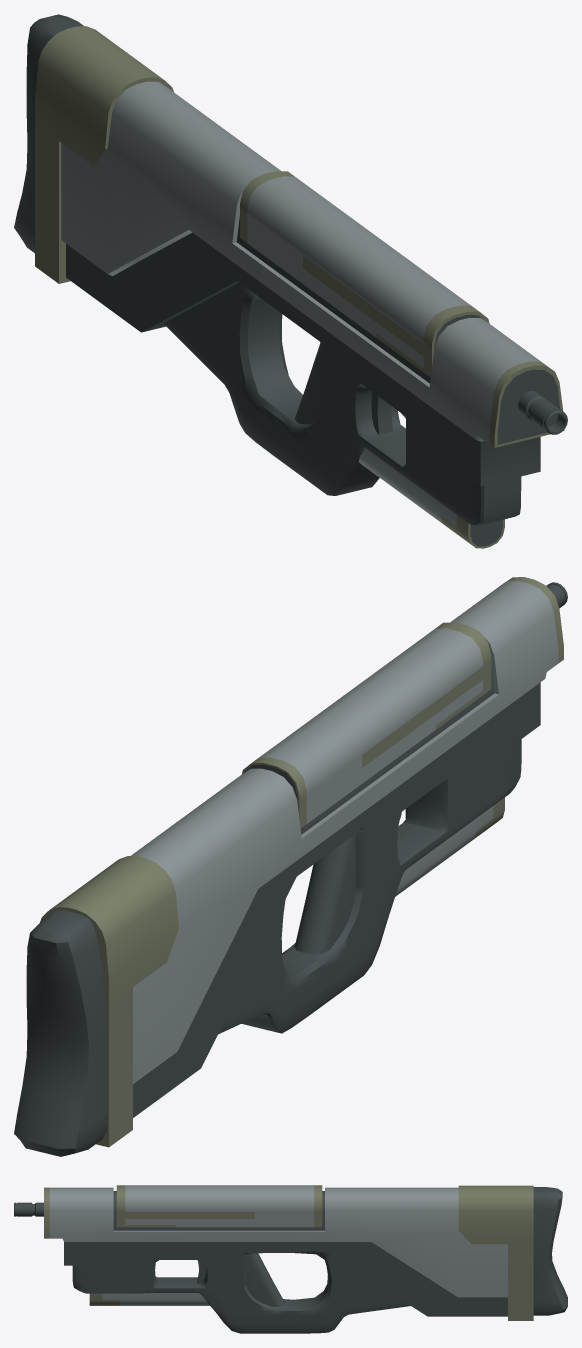
Rendered from heavy.glb.
The picture shows the model from 3 angles, top to bottom: view 1: azimuth 30°, elevation 25°; view 2: azimuth 150°, elevation 25°; view 3: azimuth 270°, elevation 25°; orthographic projection. The views are drawn at different scales.
Parts seen in each view (by area): view 1: heavy; view 2: heavy; view 3: heavy.
Boxes of the visible parts, x1,y1,x2,y2 form: heavy: (14,14,567,548); heavy: (14,577,567,1156); heavy: (14,1185,567,1333).
Bounding box in the file's own units: 0.0858 × 0.2914 × 1.04.
